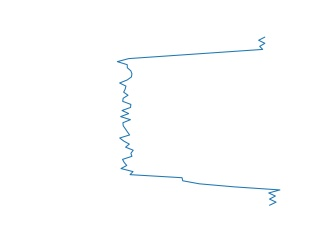distributaryChannelFill: (113, 36, 287, 206)
